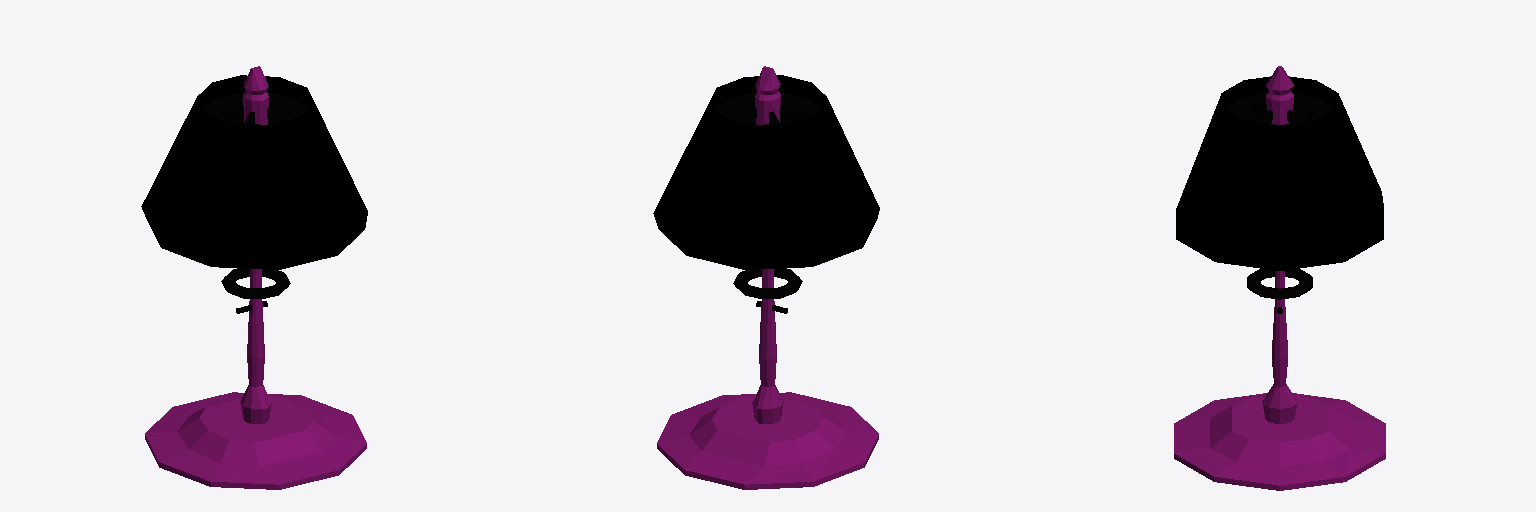
Rendered from Texture_Lamp.obj.
3 renders of one model, left to right at view 1: azimuth 30°, elevation 25°; view 2: azimuth 150°, elevation 25°; view 3: azimuth 270°, elevation 25°, orthographic.
Visible parts, largest first — view 1: Lamp_Shade, Lamp_Base, Lamp_Pole, pTorus2, Middle_RIng; view 2: Lamp_Shade, Lamp_Base, Lamp_Pole, pTorus2, Middle_RIng; view 3: Lamp_Shade, Lamp_Base, Lamp_Pole, pTorus2, Middle_RIng.
Boxes of the visible parts, box(x1,y1,x2,y2) form: Lamp_Shade: box(141, 75, 367, 269); Lamp_Base: box(145, 392, 366, 489); Lamp_Pole: box(240, 66, 271, 424); pTorus2: box(204, 93, 307, 124); Middle_RIng: box(221, 268, 290, 298); Lamp_Shade: box(653, 75, 879, 269); Lamp_Base: box(657, 392, 878, 489); Lamp_Pole: box(752, 66, 783, 424); pTorus2: box(716, 93, 819, 124); Middle_RIng: box(733, 268, 802, 298); Lamp_Shade: box(1176, 76, 1383, 270); Lamp_Base: box(1174, 393, 1385, 490); Lamp_Pole: box(1262, 66, 1297, 423); pTorus2: box(1228, 93, 1332, 123); Middle_RIng: box(1247, 268, 1312, 299).
Bounding box in the file's own units: 7.45 × 13.36 × 6.86.